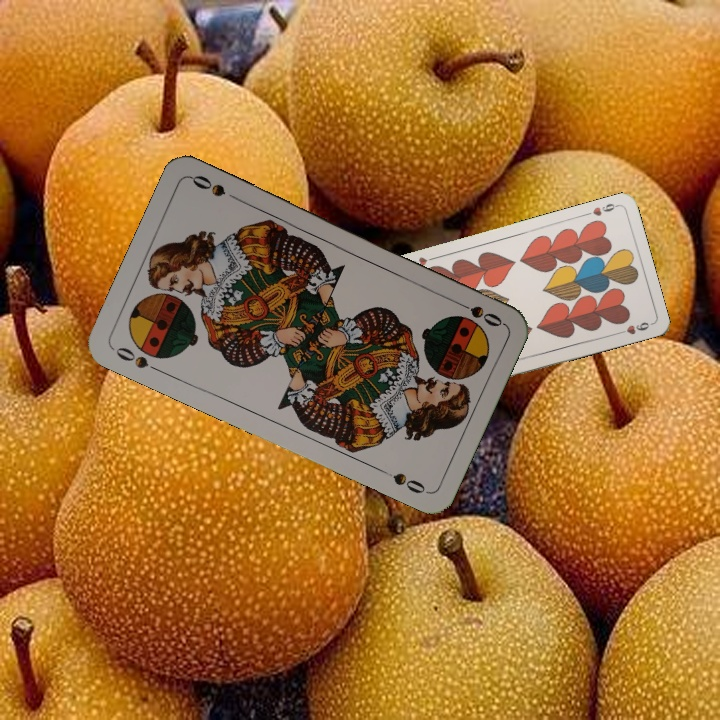H9: (581, 199, 621, 219)
SO: (450, 296, 505, 330), (109, 343, 165, 376)
